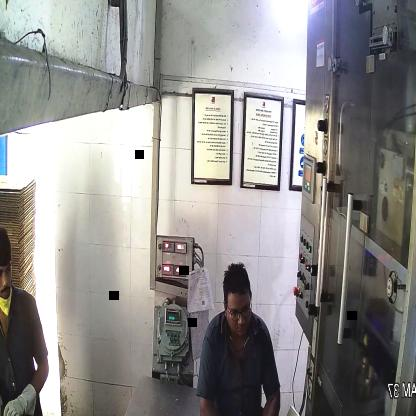goggles: (225, 300, 255, 323)
no_goggles: (0, 261, 15, 282)
